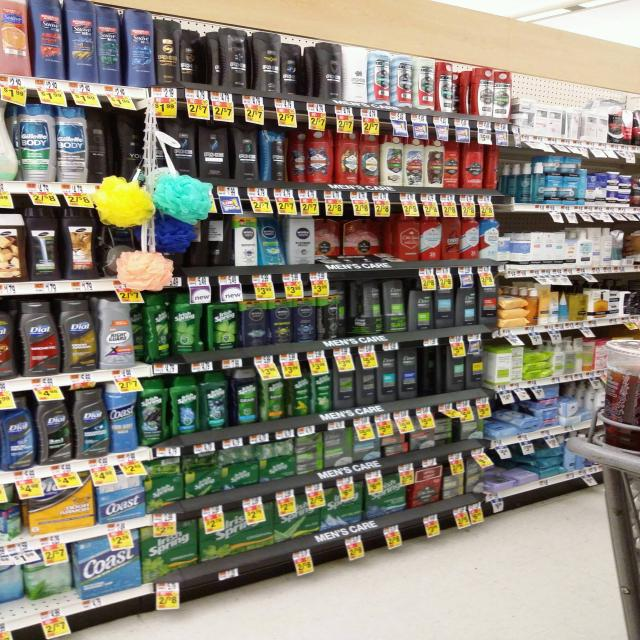empty: (418, 339, 451, 402)
